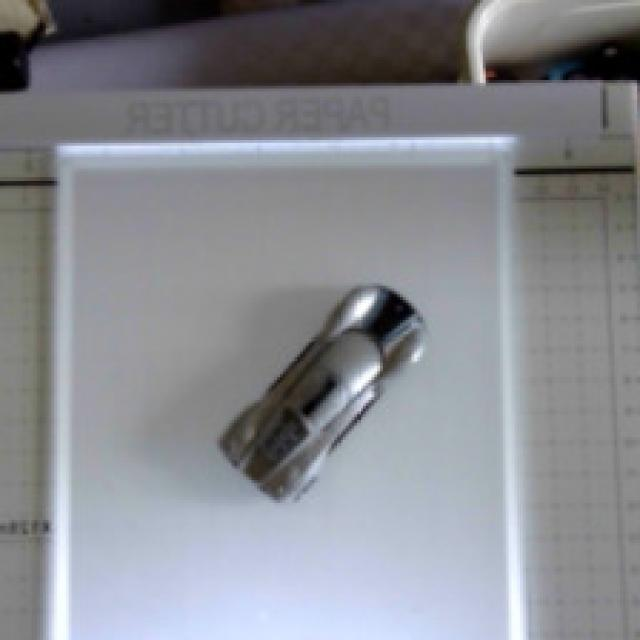Grey Car: (195, 247, 439, 549)
